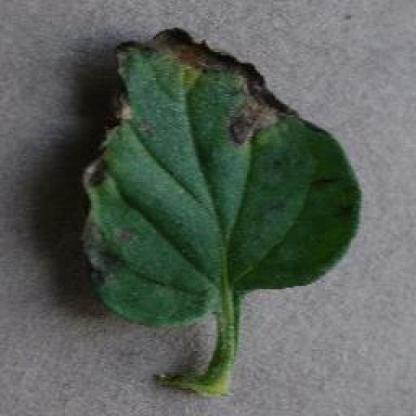Tomato_Blight: (82, 27, 358, 326)
